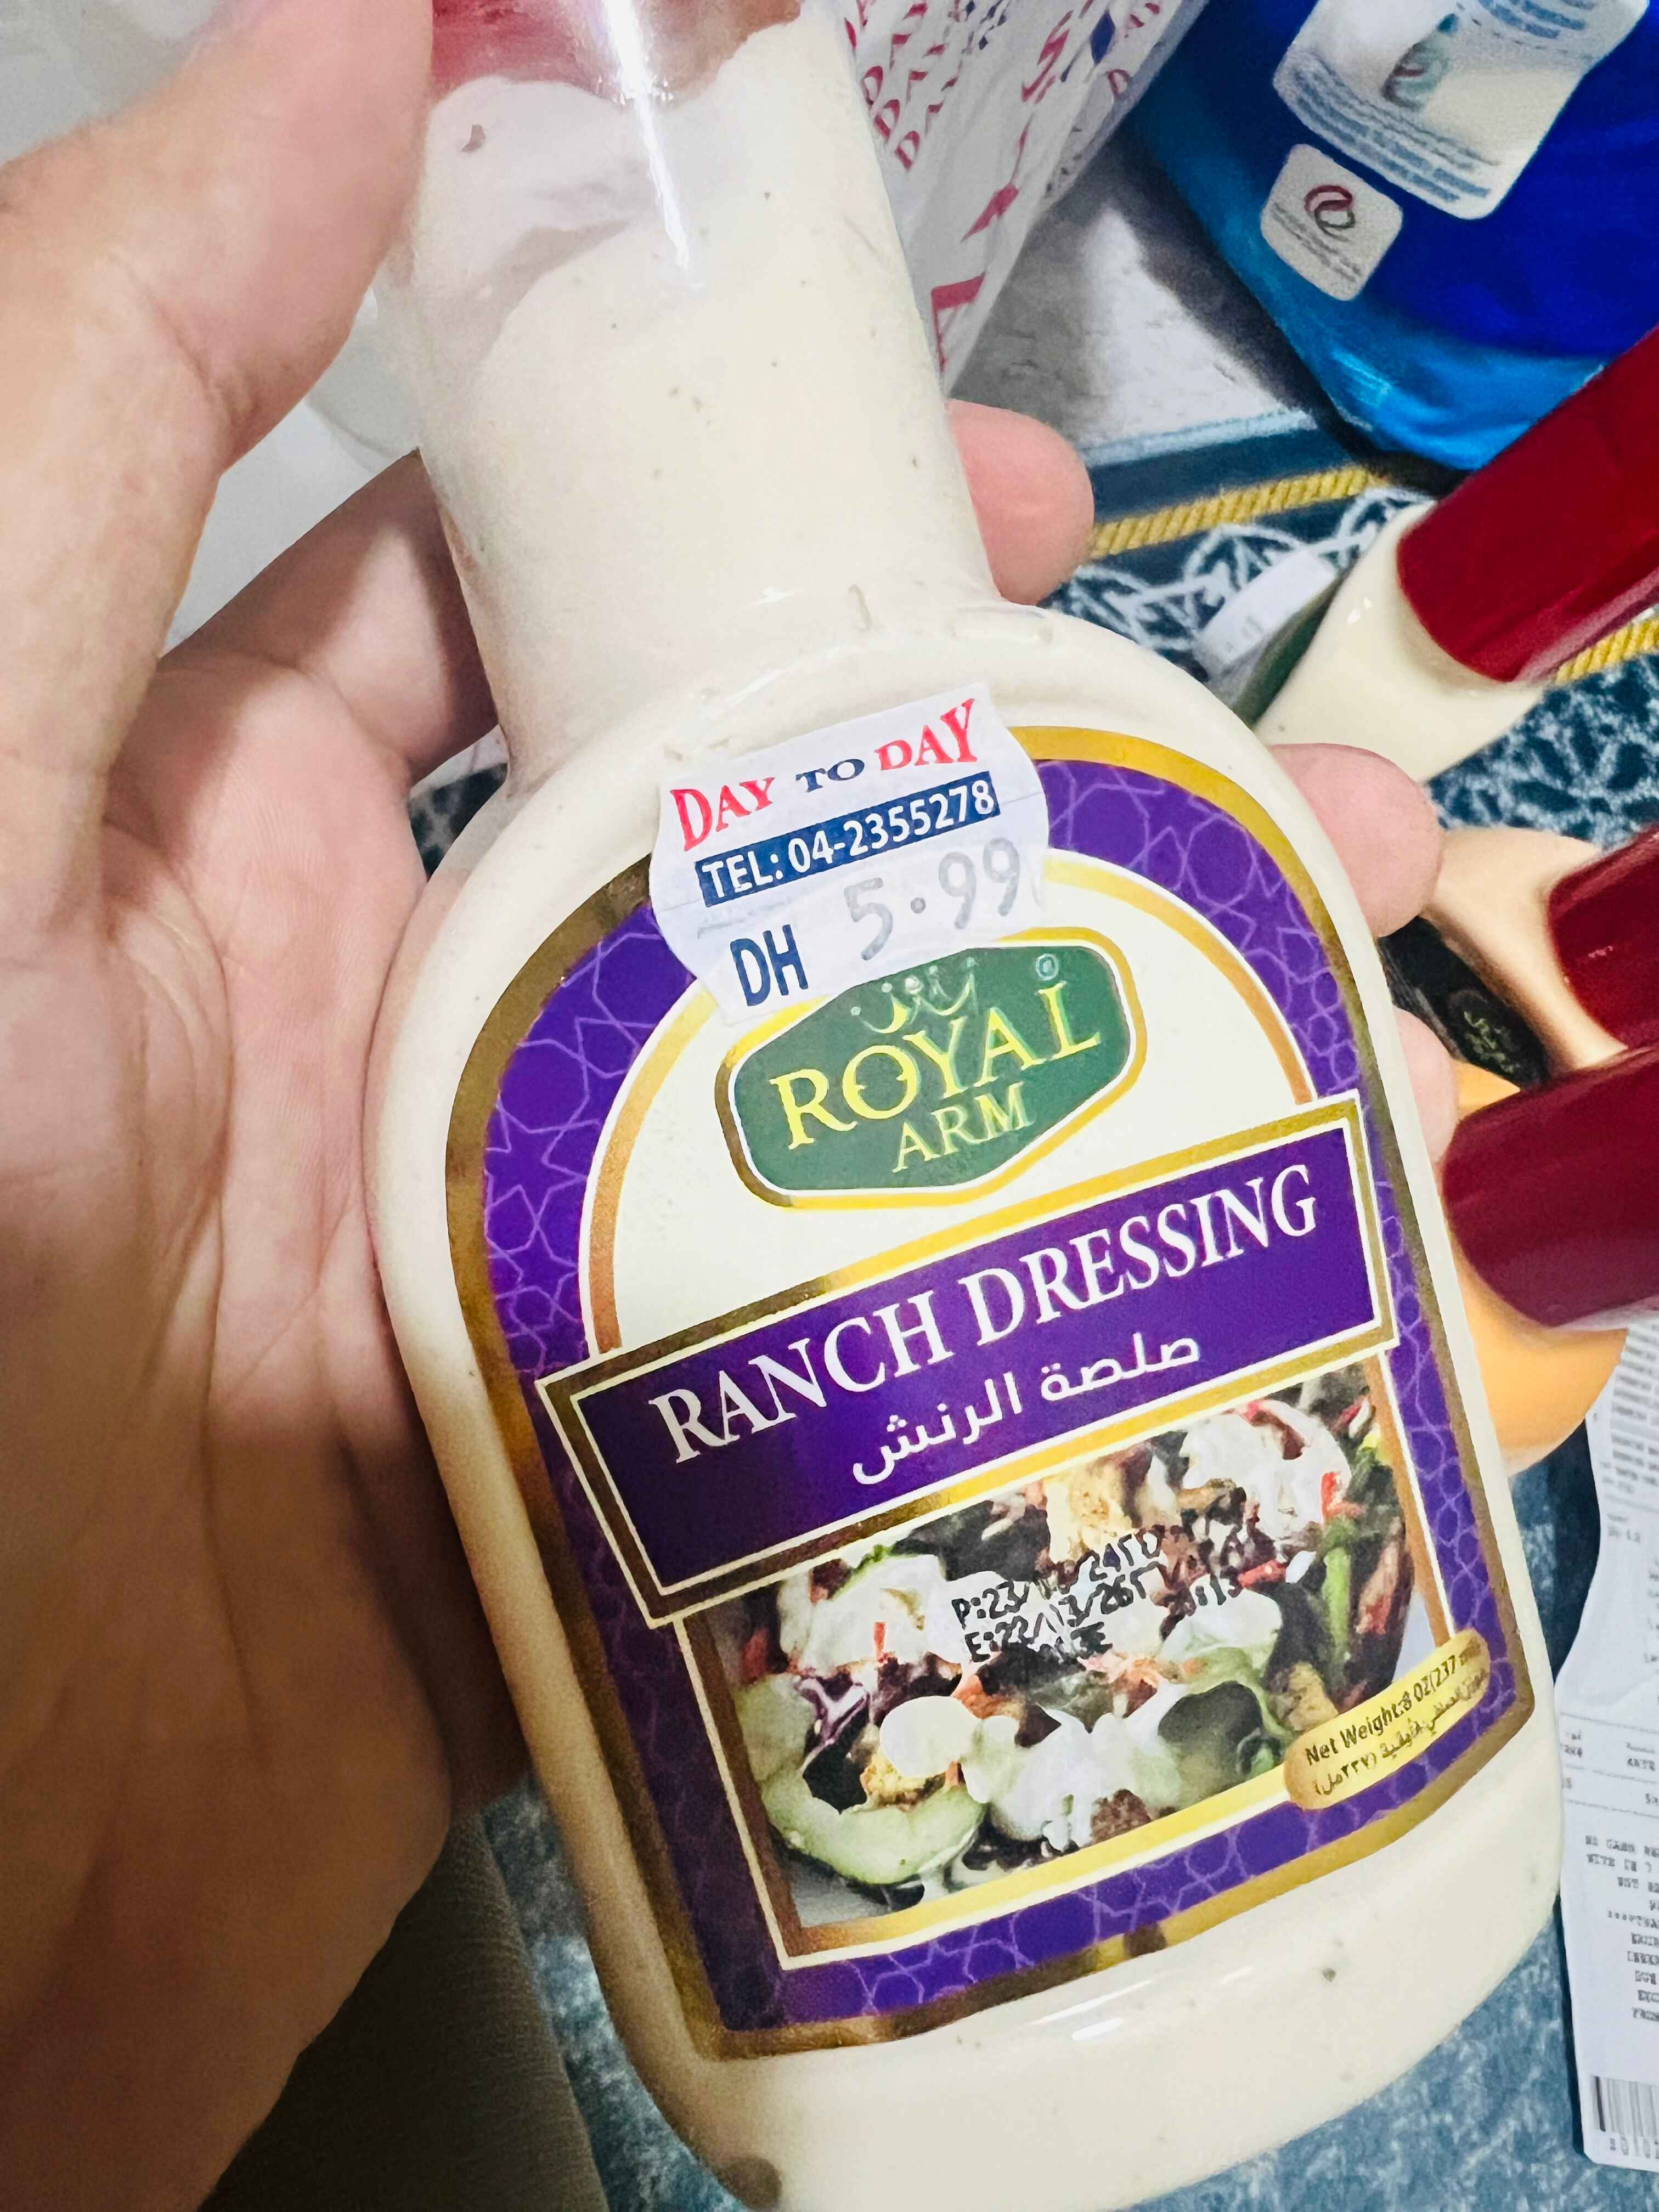PriceTagSmall: (660, 691, 1054, 996)
